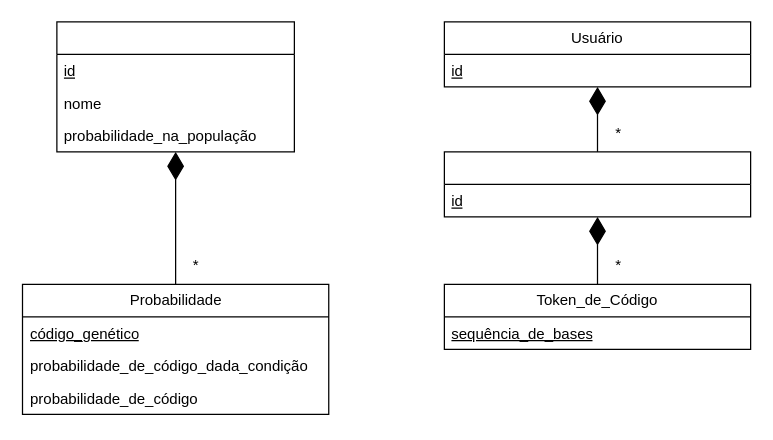
The diagram is 773 pixels wide and 440 high, and some of its shapes have lost their labels. The shapes that lost their labels are listed below. From the top down, each one's box as (x1, y1, x2, y2) in pixels, then its label:
(56, 21, 294, 152): Condição
(443, 151, 751, 217): Painel
